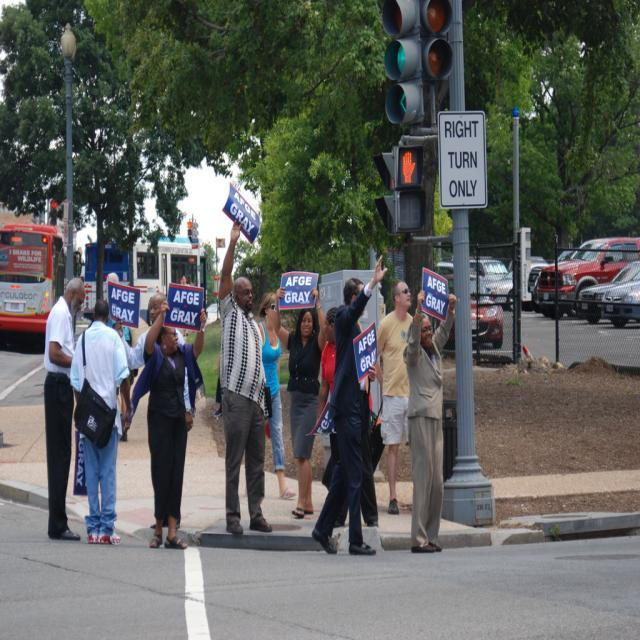traffic light: (377, 0, 423, 131), (420, 0, 462, 81), (396, 142, 427, 231)
